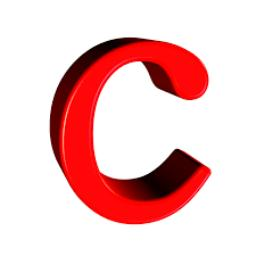c: (43, 15, 215, 241)
